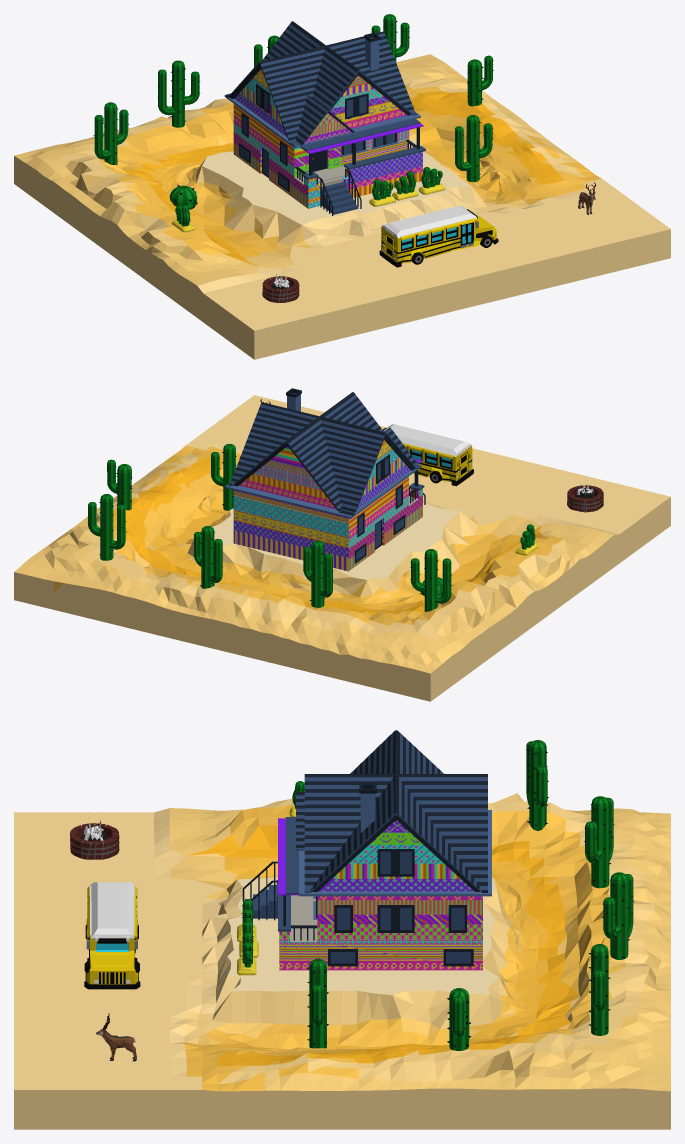
3 views of the same model, one above another, from view 1: azimuth 30°, elevation 25°; view 2: azimuth 150°, elevation 25°; view 3: azimuth 270°, elevation 25° (orthographic). The views are drawn at different scales.
Parts seen in each view (by area): view 1: Cube.001, Cube.676, VEHICLES_SCHOOL_BUS, Cylinder.037, Cylinder.044, Cylinder.045, Cylinder.038, OBJRANDOM_CAMPFIRE, Cylinder.042, Cylinder.039, Cylinder.041, Sphere.023 (+1 smaller); view 2: Cube.001, Cube.676, VEHICLES_SCHOOL_BUS, Cylinder.042, Cylinder.045, Cylinder.044, Cylinder.043, Cylinder.037, Cylinder.038, OBJRANDOM_CAMPFIRE; view 3: Cube.001, Cube.676, VEHICLES_SCHOOL_BUS, Cylinder.043, Cylinder.044, Cylinder.045, Cylinder.042, OBJRANDOM_CAMPFIRE, Cylinder.037, Cylinder.038, Cylinder.041, ANIMAL_VENADO.
Part boxes in pixels (box(x1,y1,x2,y2)): Cube.001: box(14, 54, 670, 359); Cube.676: box(224, 21, 425, 215); VEHICLES_SCHOOL_BUS: box(379, 205, 498, 267); Cylinder.037: box(454, 115, 493, 182); Cylinder.044: box(157, 60, 200, 127); Cylinder.045: box(93, 102, 129, 164); Cylinder.038: box(467, 55, 493, 106); OBJRANDOM_CAMPFIRE: box(262, 274, 299, 302); Cylinder.042: box(371, 14, 409, 62); Cylinder.039: box(369, 179, 395, 206); Cylinder.041: box(418, 167, 445, 194); Sphere.023: box(169, 184, 197, 209); Cube.001: box(14, 395, 670, 701); Cube.676: box(225, 388, 425, 571); VEHICLES_SCHOOL_BUS: box(383, 424, 473, 486); Cylinder.042: box(88, 494, 126, 560); Cylinder.045: box(410, 549, 452, 611); Cylinder.044: box(303, 540, 333, 607); Cylinder.043: box(193, 526, 222, 588); Cylinder.037: box(211, 444, 240, 510); Cylinder.038: box(107, 459, 131, 510); OBJRANDOM_CAMPFIRE: box(567, 484, 603, 512); Cube.001: box(14, 793, 670, 1129); Cube.676: box(242, 730, 491, 970); VEHICLES_SCHOOL_BUS: box(84, 882, 140, 989); Cylinder.043: box(602, 872, 634, 959); Cylinder.044: box(584, 796, 614, 888); Cylinder.045: box(526, 740, 548, 830); Cylinder.042: box(588, 944, 610, 1035); OBJRANDOM_CAMPFIRE: box(70, 821, 119, 859); Cylinder.037: box(307, 958, 328, 1048); Cylinder.038: box(447, 988, 471, 1050); Cylinder.041: box(237, 932, 256, 975); ANIMAL_VENADO: box(96, 1013, 136, 1061).
Bounding box in the file's own units: 4002 × 1779 × 4001.
Materials: 38 (6 with a texture image).
